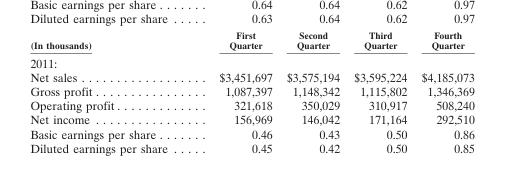table: (29, 29, 473, 154)
table column: (29, 29, 192, 154), (192, 29, 278, 154), (278, 29, 346, 154), (346, 29, 413, 154), (413, 29, 473, 154)
table column header: (29, 29, 473, 52)
table projected row header: (29, 52, 473, 69)
table row: (29, 29, 473, 52), (29, 52, 473, 69), (29, 97, 473, 112), (29, 69, 473, 83), (29, 83, 473, 97), (29, 112, 473, 126), (29, 126, 473, 140), (29, 140, 473, 154)
